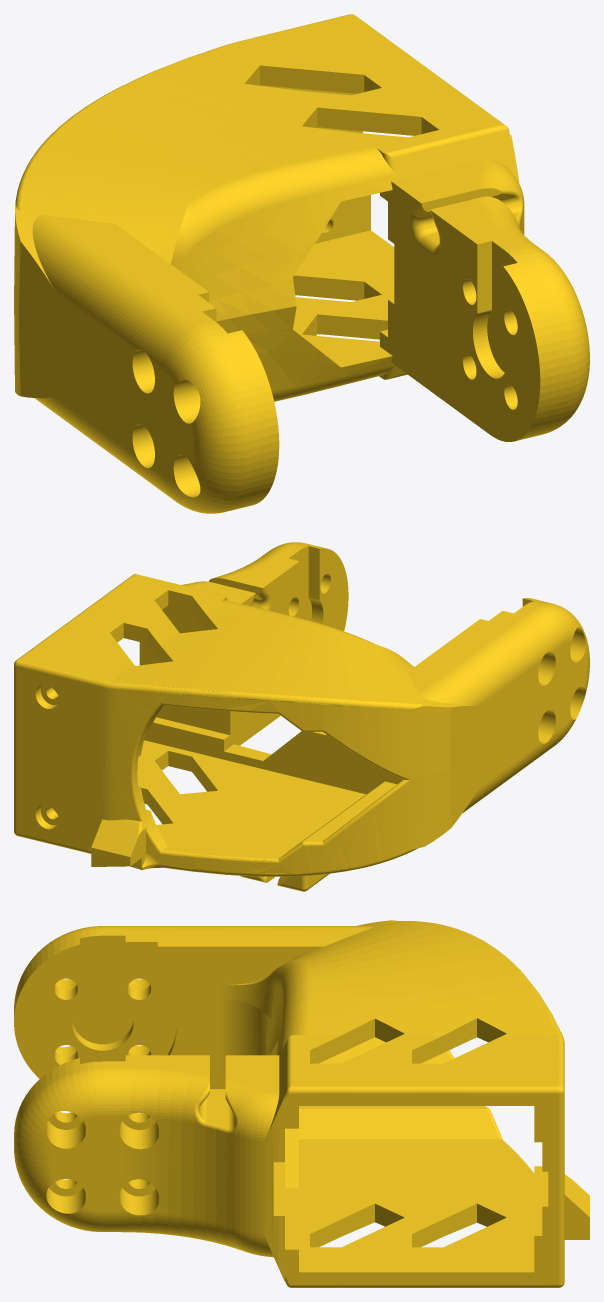
Rendered from wrist_visuals_wrist_roll_pitch_so101_v2_mesh.obj.
The picture shows the model from 3 angles, top to bottom: view 1: azimuth 30°, elevation 25°; view 2: azimuth 150°, elevation 25°; view 3: azimuth 270°, elevation 25°; orthographic projection. The views are drawn at different scales.
Size of the model in its own units: 0.0623 by 0.0357 by 0.0778.
